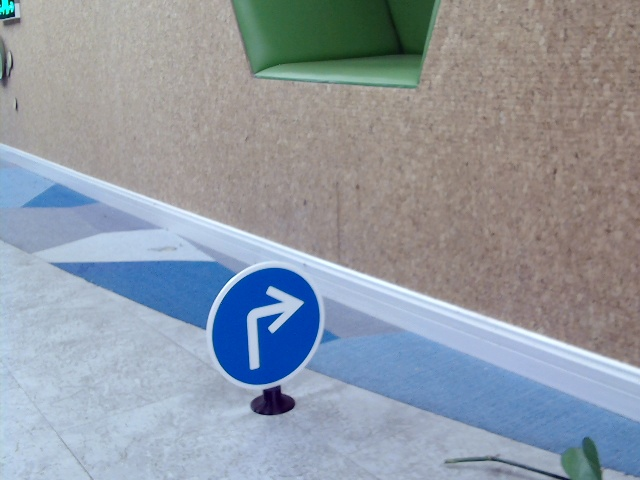turn_right: (239, 285, 302, 371)
